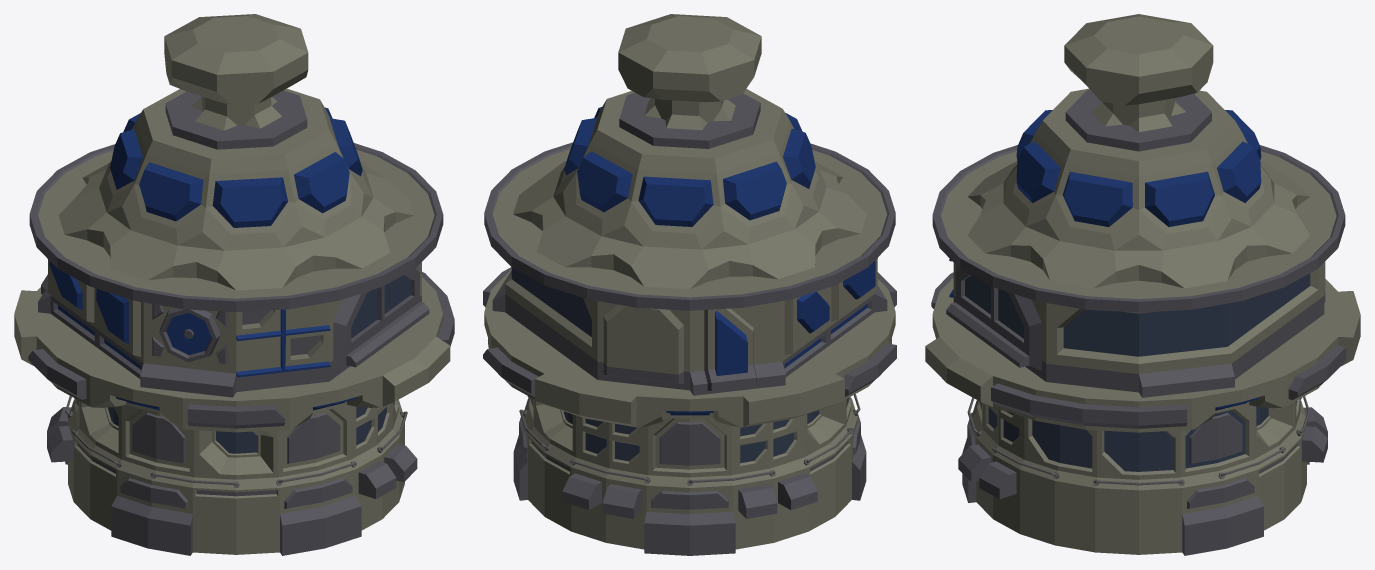
The model's file is LPSciFi_Observatory.fbx.
3 views of the same model, side by side, from view 1: azimuth 30°, elevation 25°; view 2: azimuth 150°, elevation 25°; view 3: azimuth 270°, elevation 25° (orthographic).
Parts seen in each view (by area): view 1: Observatory; view 2: Observatory; view 3: Observatory.
Part boxes in pixels (box(x1,y1,x2,y2)): Observatory: box(14, 14, 454, 555); Observatory: box(483, 14, 896, 555); Observatory: box(925, 14, 1360, 555).
Size of the model in its own units: 1082 by 1228 by 1080.
